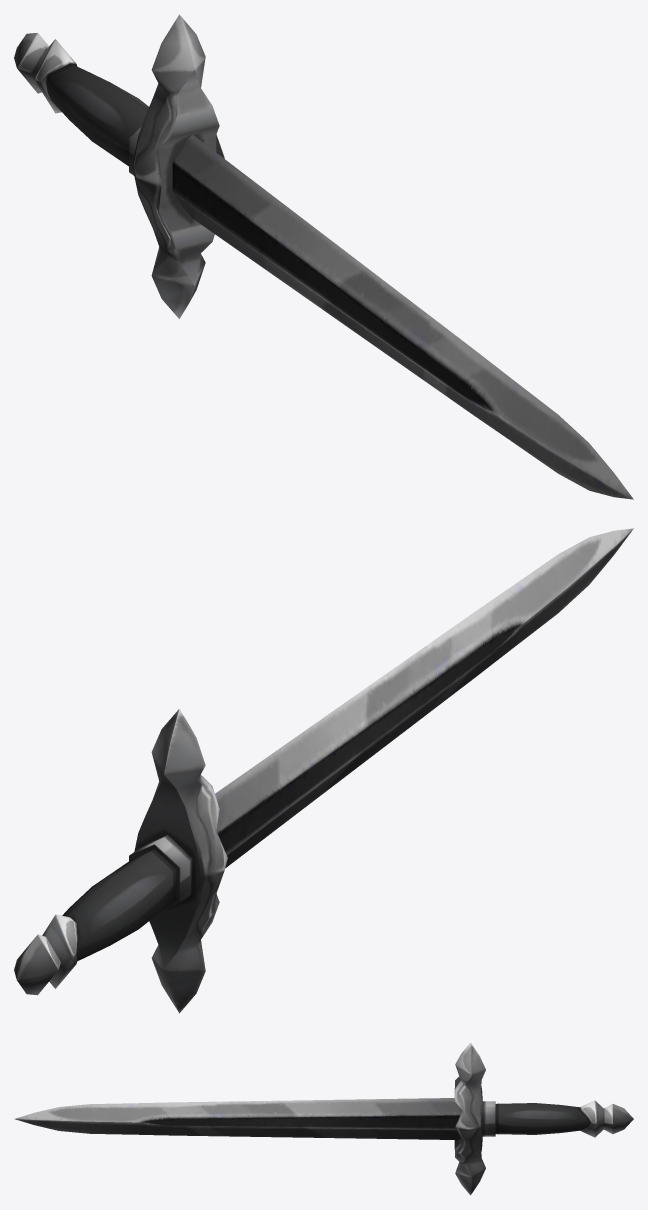
The picture shows the model from 3 angles, top to bottom: view 1: azimuth 30°, elevation 25°; view 2: azimuth 150°, elevation 25°; view 3: azimuth 270°, elevation 25°; orthographic projection. The views are drawn at different scales.
Visible parts, largest first — view 1: mSword; view 2: mSword; view 3: mSword.
Part boxes in pixels (x1,y1,x2,y2): mSword: [14, 14, 633, 499]; mSword: [14, 528, 633, 1013]; mSword: [15, 1042, 633, 1195].
Bounding box in the file's own units: 0.0586 × 0.1937 × 0.7106.
1 material, 1 textured.
